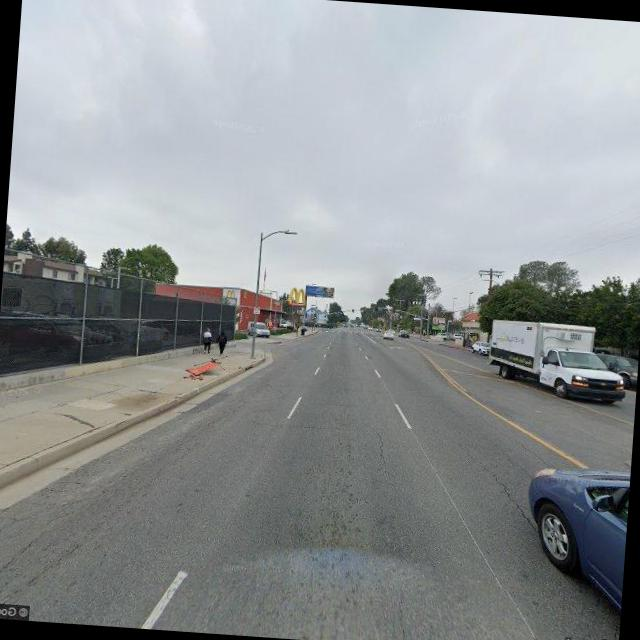pothole: (456, 444, 542, 530), (369, 423, 393, 472)
